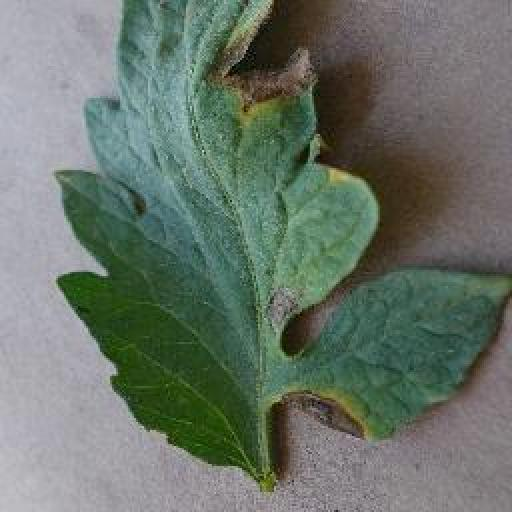disease_tomato: (54, 0, 512, 472)
